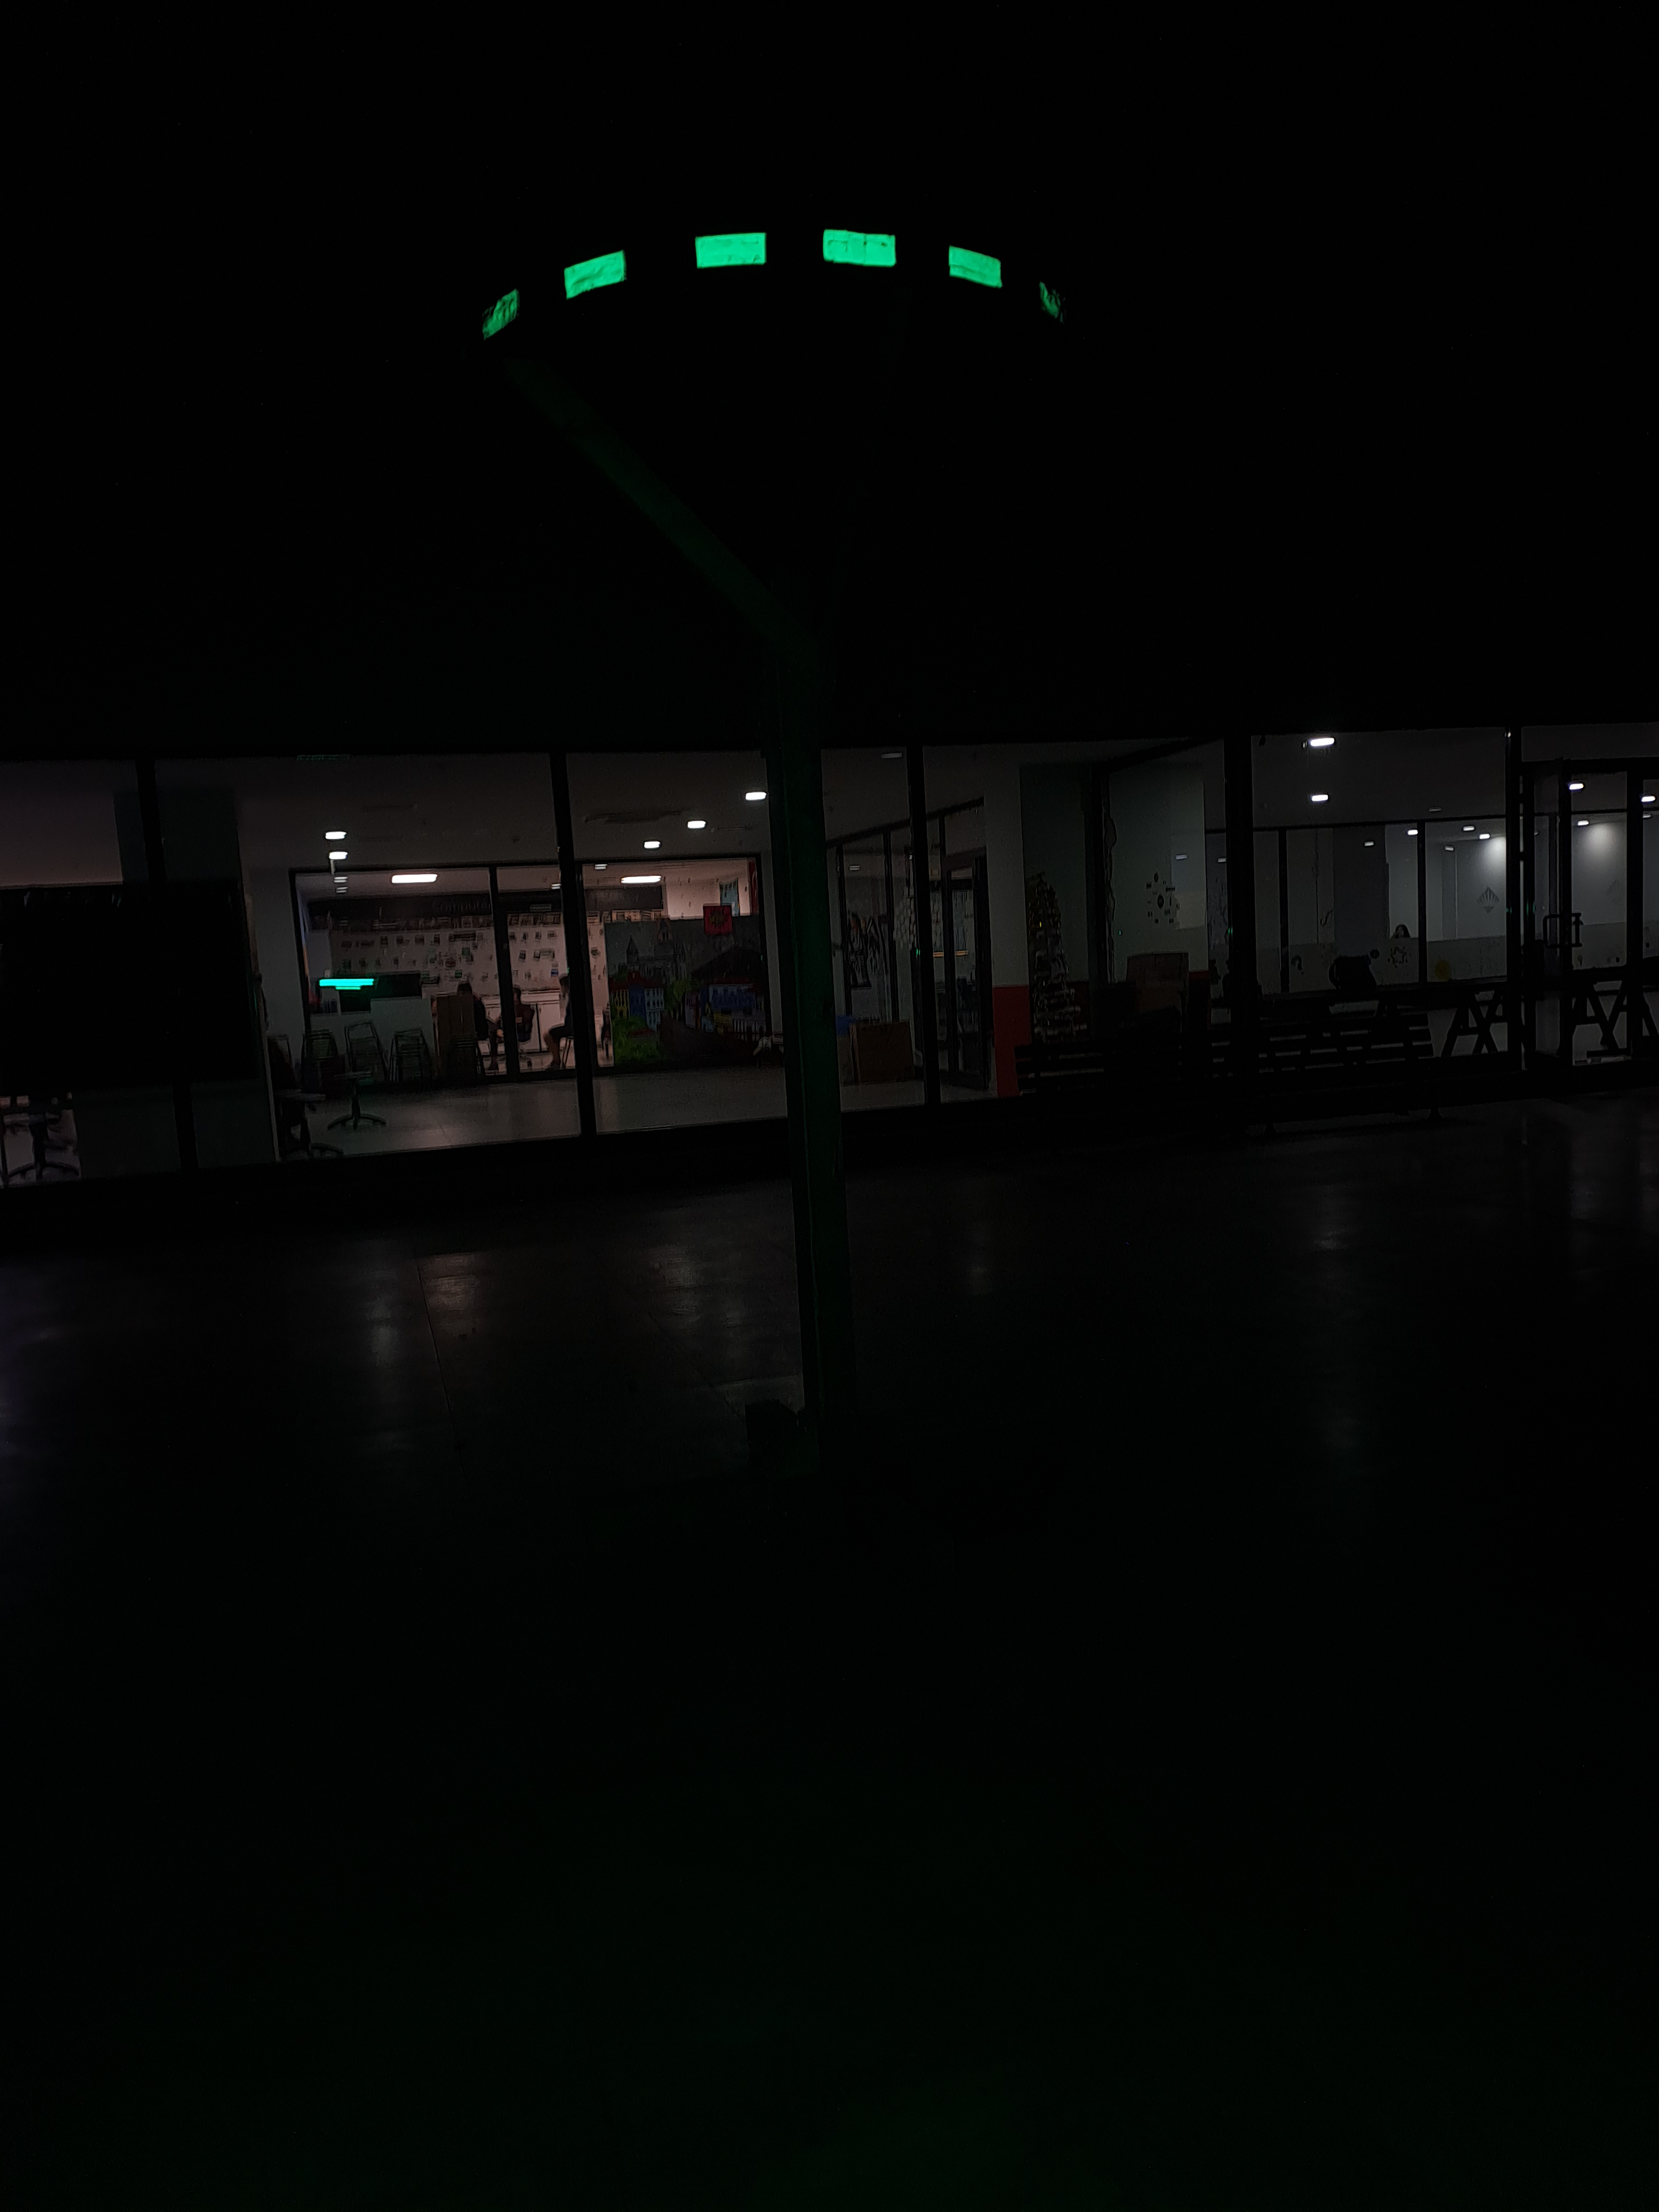hoop: (476, 221, 1068, 345)
